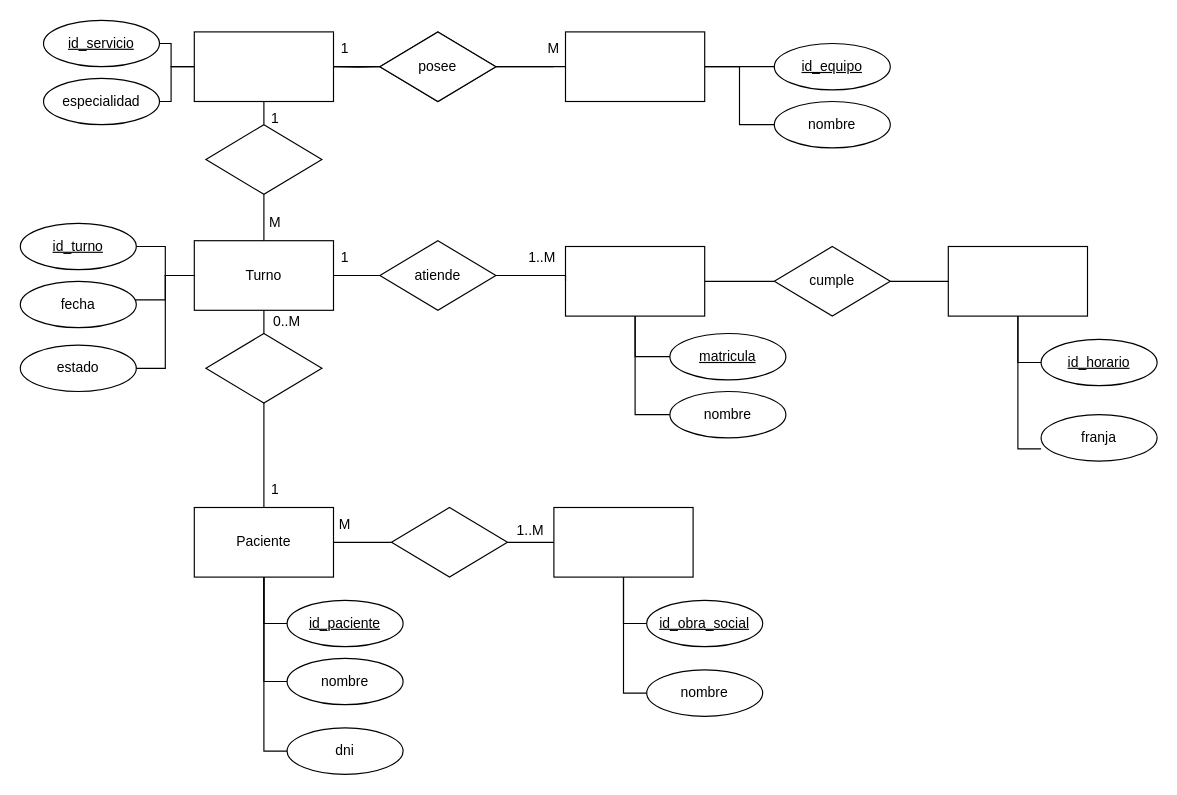
This 1177x795 diagram has some shape labels left out. Here are the shapes that lost their labels. From the top down, the box of each, then its label:
(193, 31, 334, 102): Servicio Médico
(564, 31, 705, 102): Equipo
(205, 124, 322, 194): pertenece
(564, 245, 705, 316): Médico
(947, 245, 1088, 316): Horario Atencion
(205, 332, 322, 403): reserva
(390, 506, 507, 577): contiene
(553, 506, 693, 577): Obra Social
